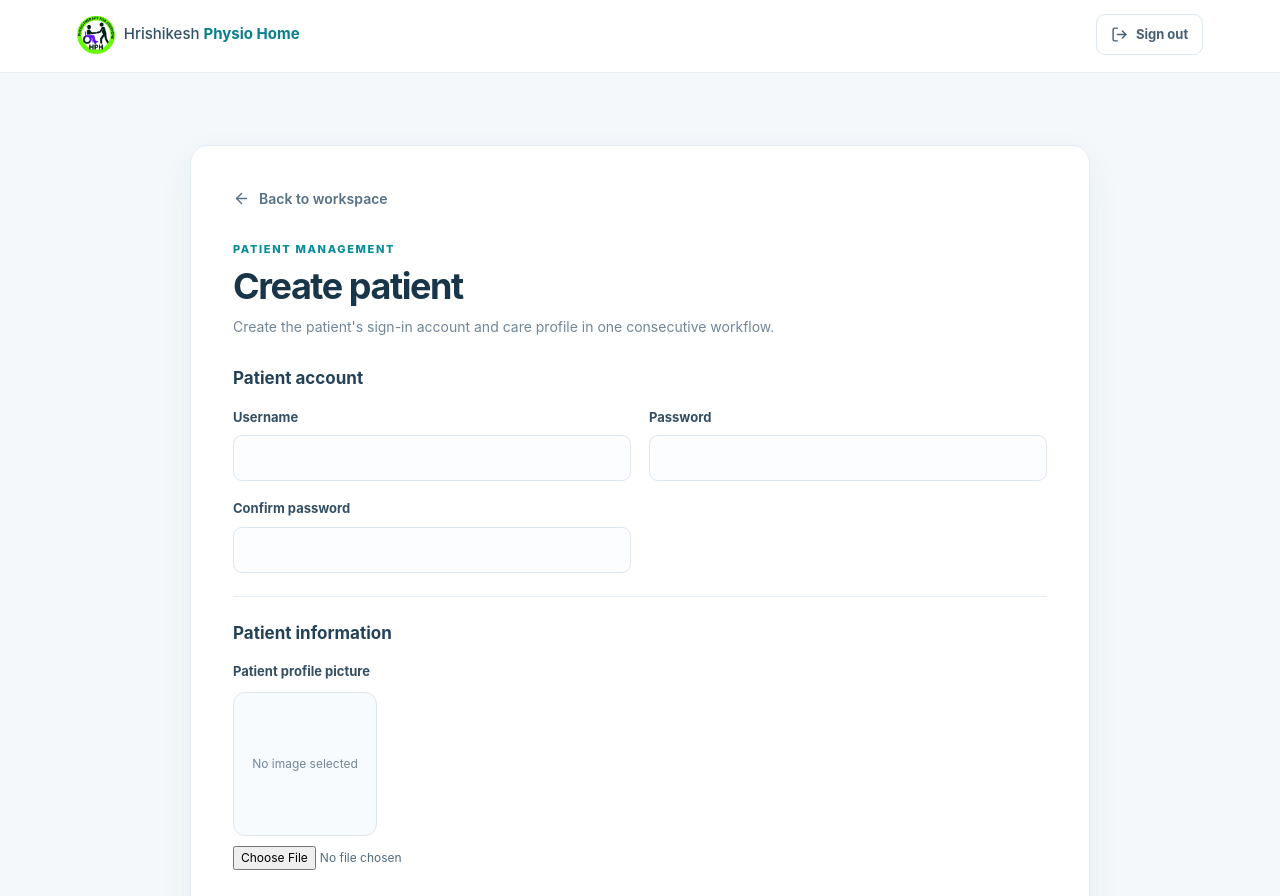
it: profile image upload page integrations › requires matching passwords before creating the patient account
The width and height of the screenshot is (1280, 896).
In the field labelled "Username": (432, 458) [233,436,631,482], type "patient1"
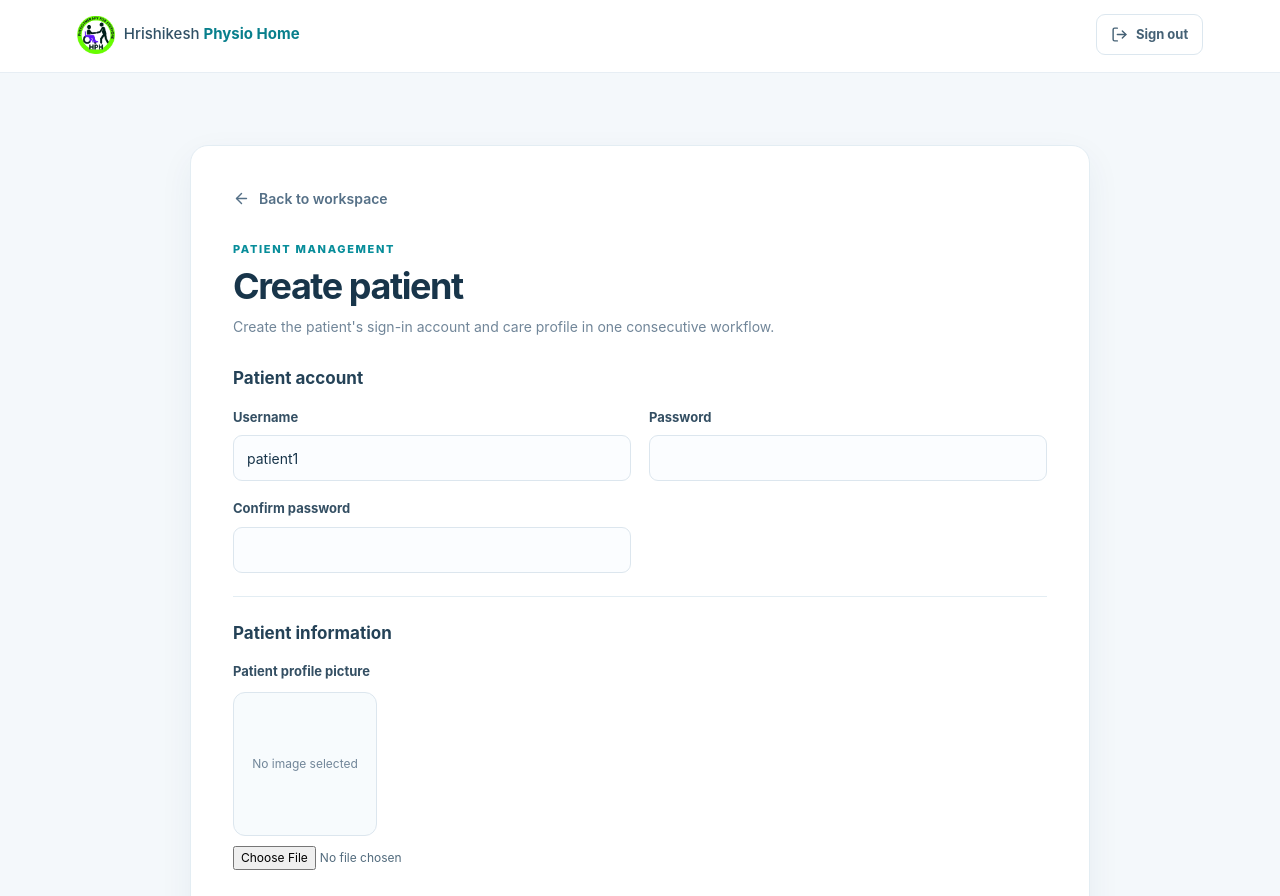
In the password field labelled "Password": (848, 458) [649,436,1047,482], type "first-password"
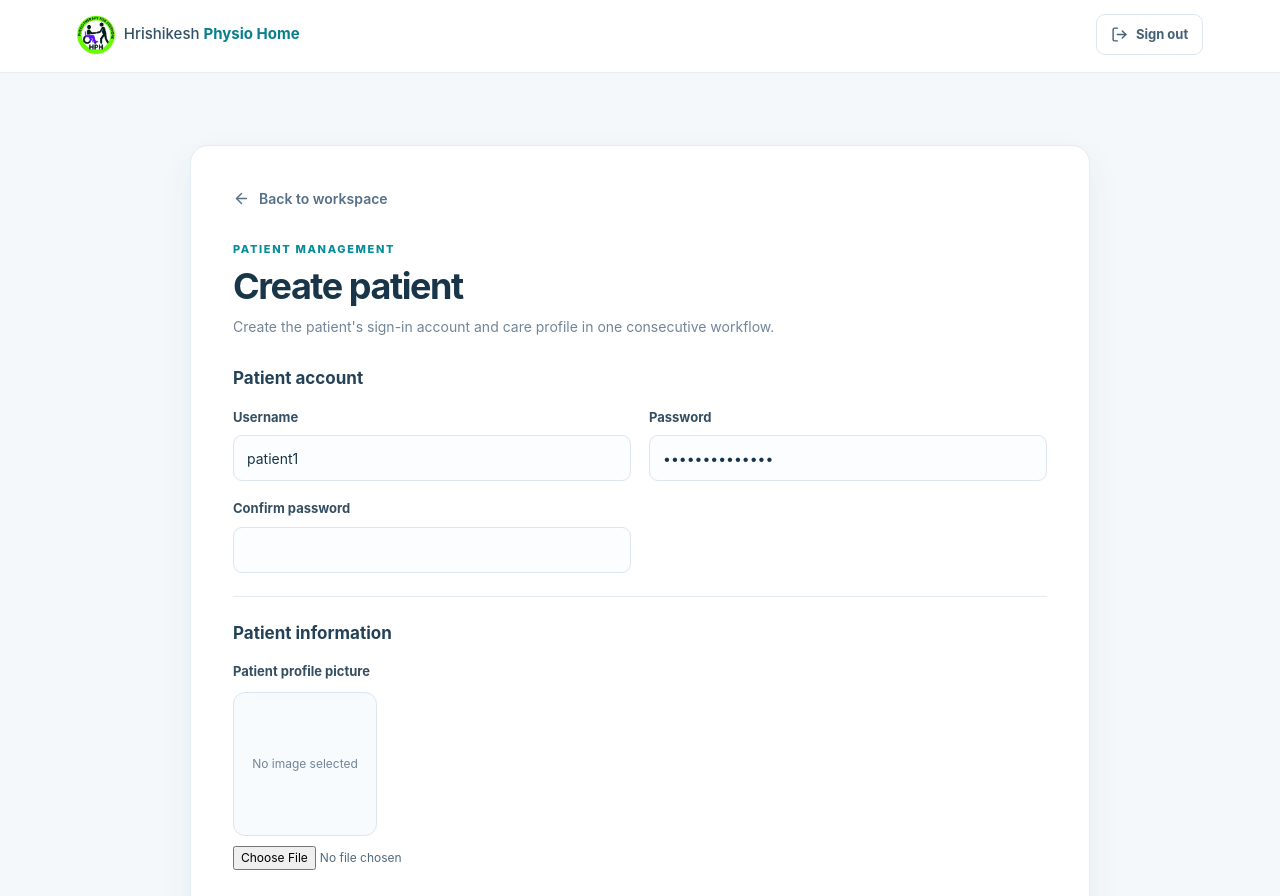
In the password field labelled "Confirm password": (432, 550) [233,527,631,573], type "different-password"
(page scrolled)
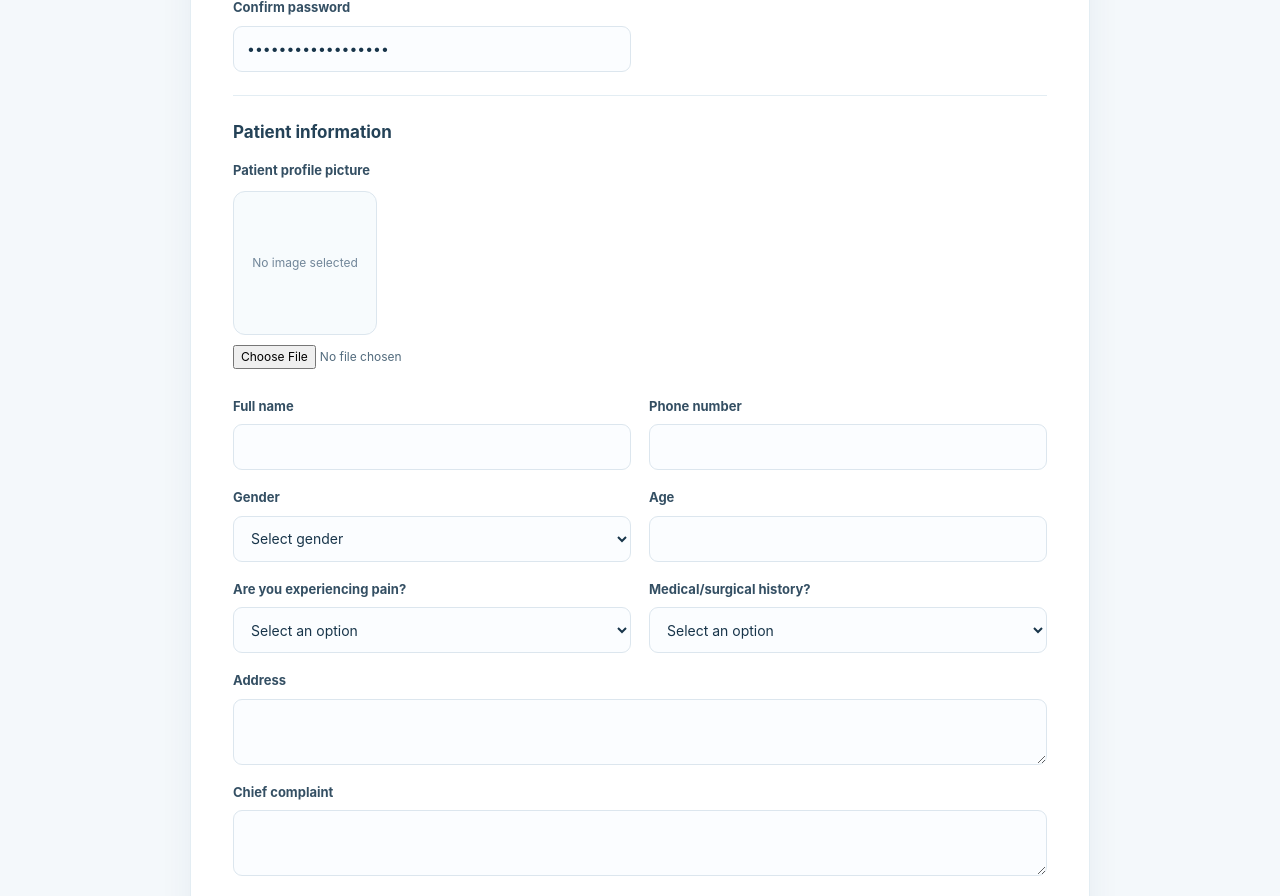
In the field labelled "Full name": (432, 448) [233,424,631,470], type "Patient Name"
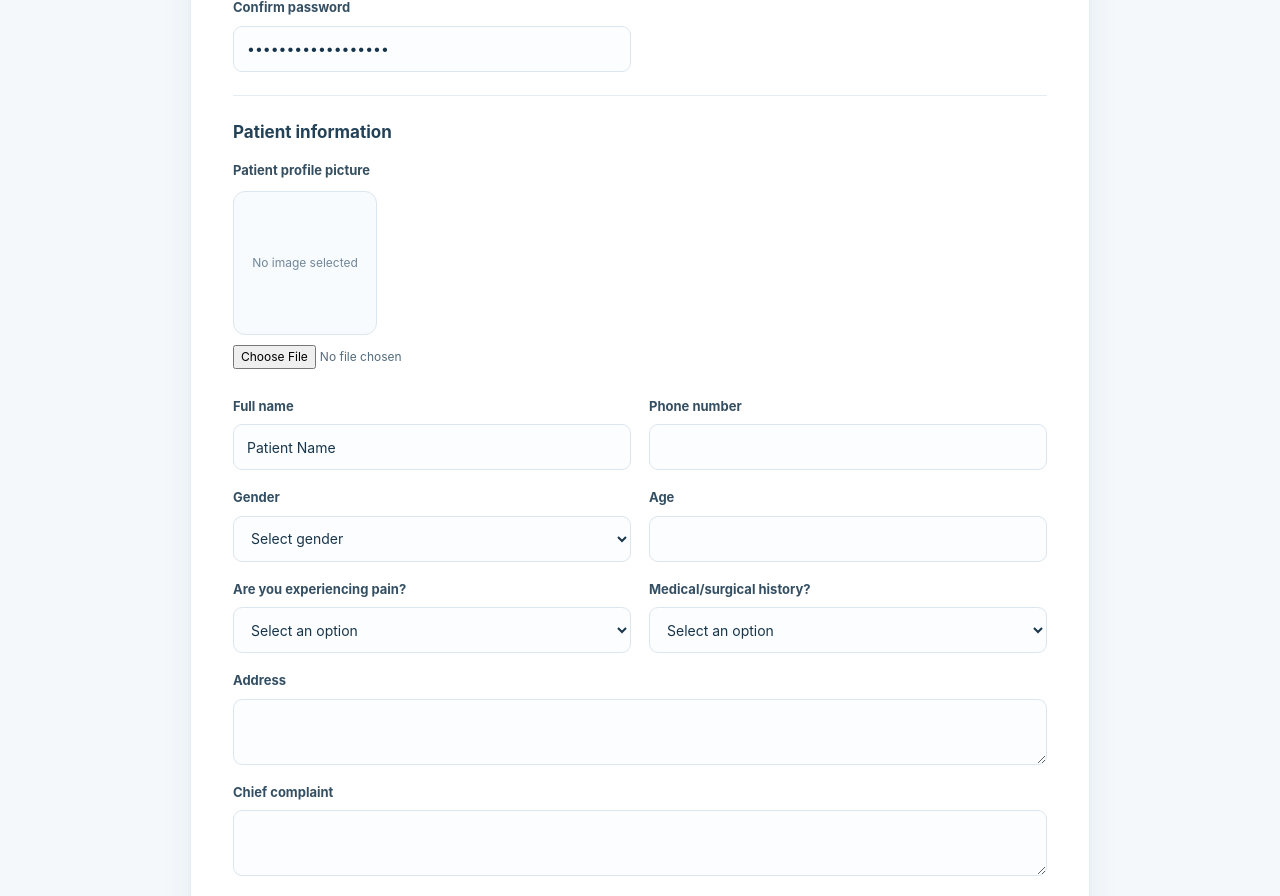
In the field labelled "Phone number": (848, 448) [649,424,1047,470], type "5551234567"
(page scrolled)
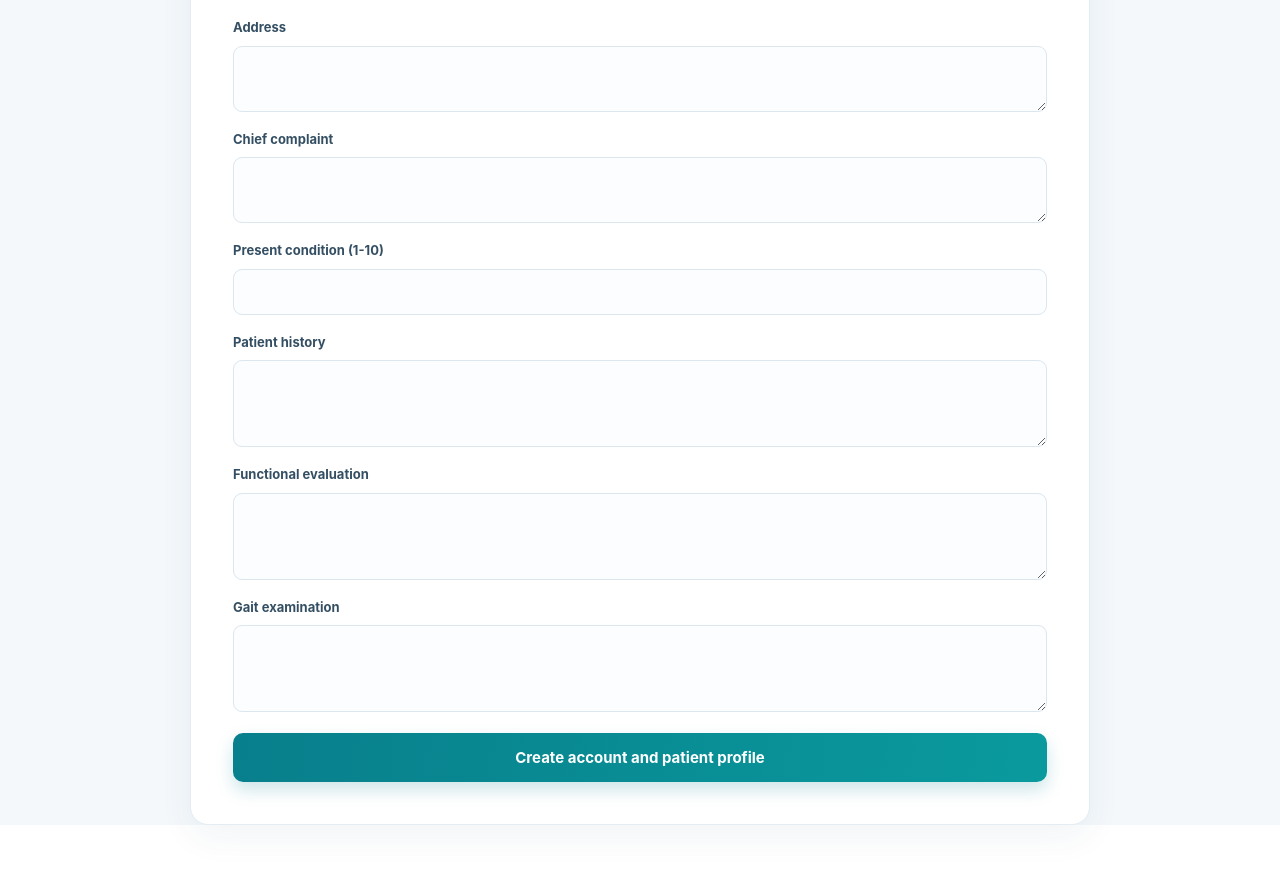
Click the button "Create account and patient profile": (640, 758) [233,734,1047,782]
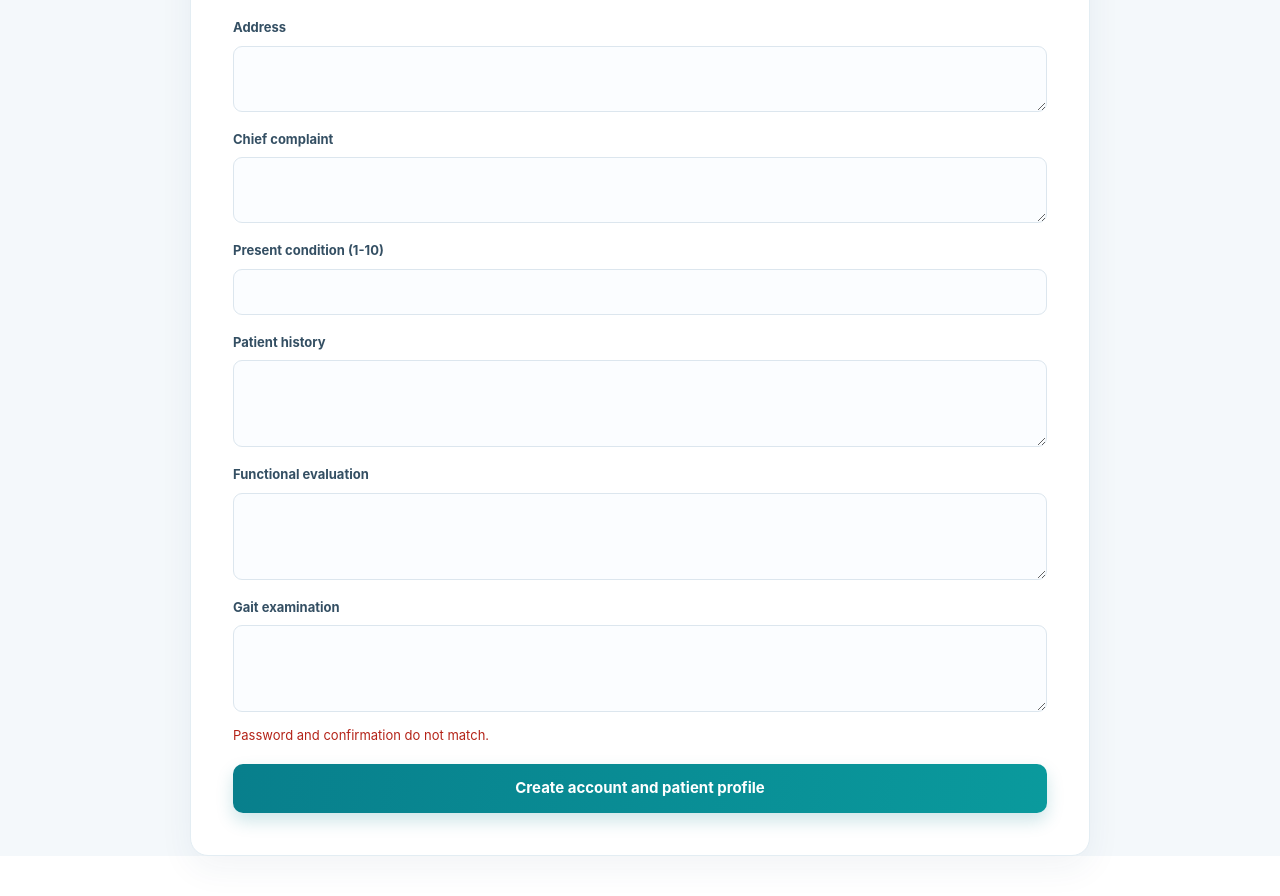
Expected: the text "Password and confirmation do not match." is shown, [233,728,489,744]
